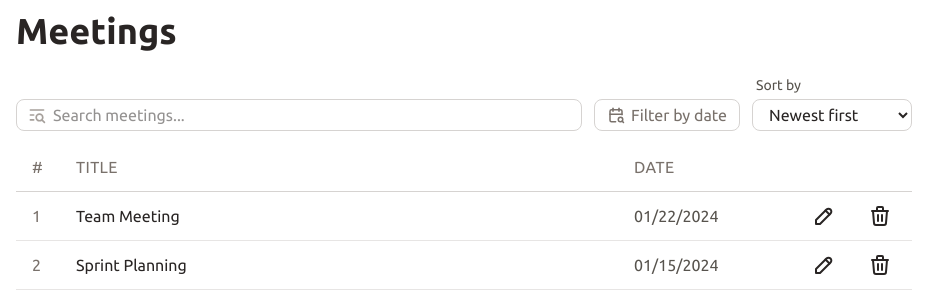
Scenario: Meeting Edit › clicking edit switches to edit mode showing inputs
Step 1. Click the button named "Edit" next to "01/22/2024" → (824, 216), box [808, 200, 840, 232]
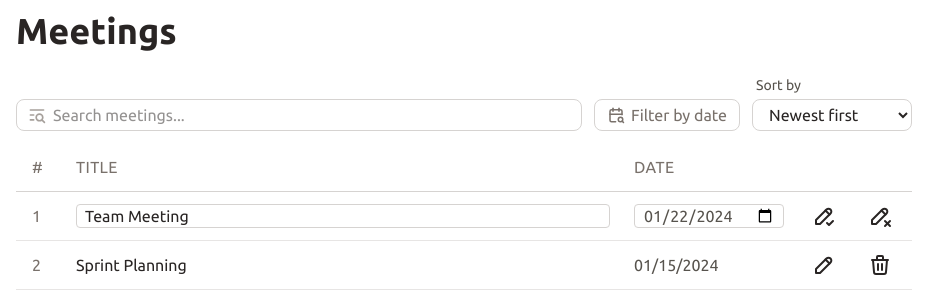
Now the field showing "Team Meeting" is shown, box [76, 204, 610, 228]
Now the date field showing "2024-01-22" is shown, box [634, 204, 784, 228]
